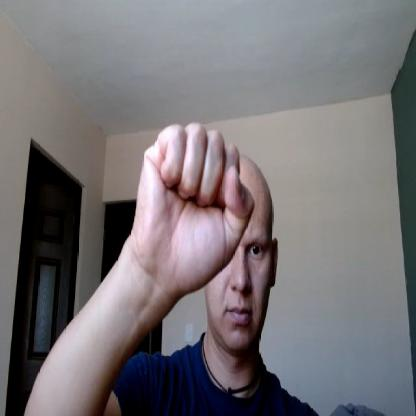S: (135, 118, 257, 288)
